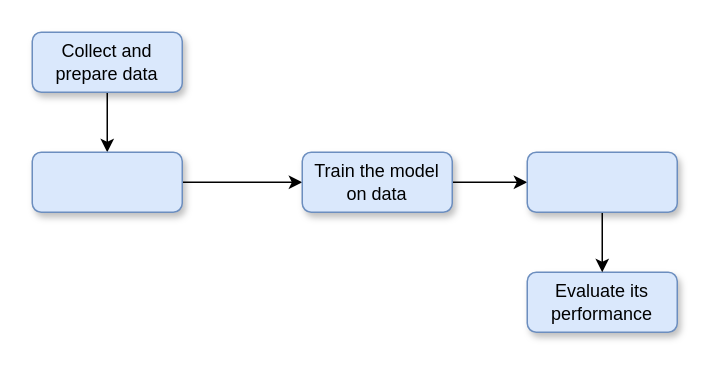
This 713x369 diagram has some shape labels left out. Here are the shapes that lost their labels. From the top down, the centre of each, then its label:
At [108,184]: "Choose a model Type".
At [603,184]: "Deploy the model for real use".
